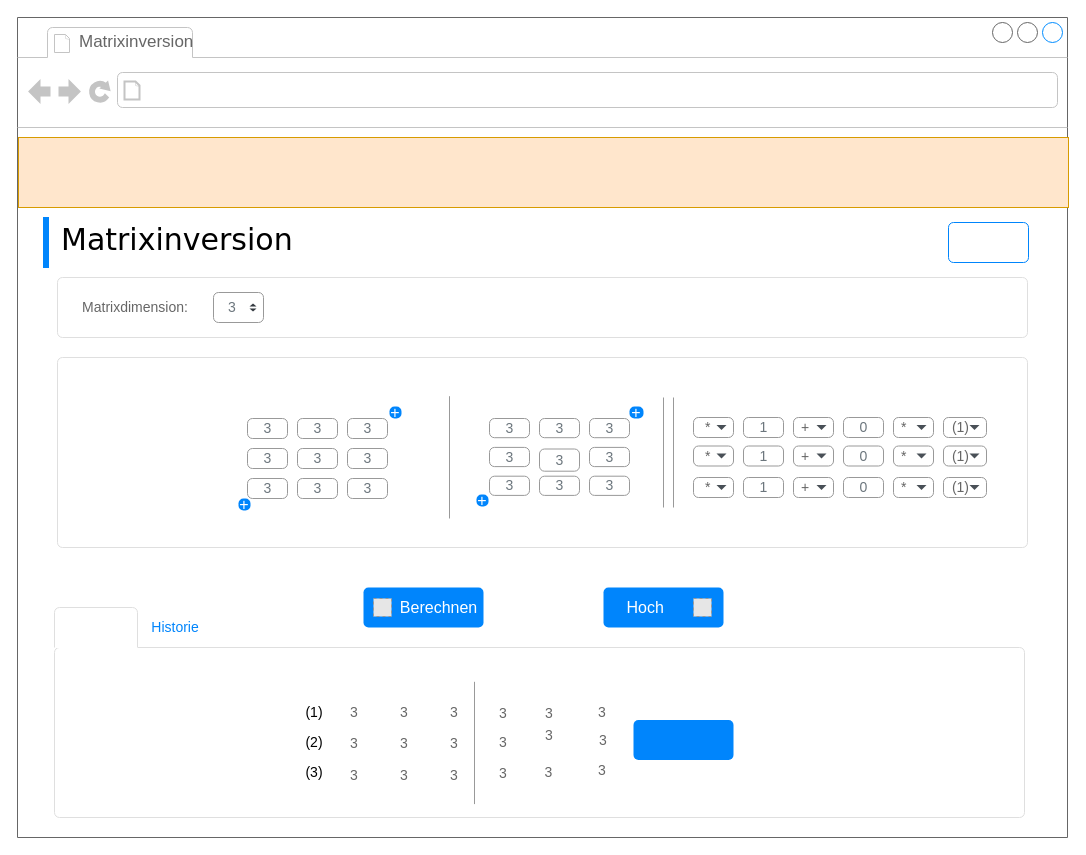
Some shapes in this 1086 by 855 pixel diagram are drawn without their labels. Grey dashed boxes stand in for pictures. Here are the shapes that lost their labels. From the top down, the centre of each, then its label:
[272,90]: https://www.default.com/matrixinversion
[543,172]: Platzhalter Navigationsleiste
[988,242]: Hilfe
[96,627]: Berechnung
[683,740]: Lösen
